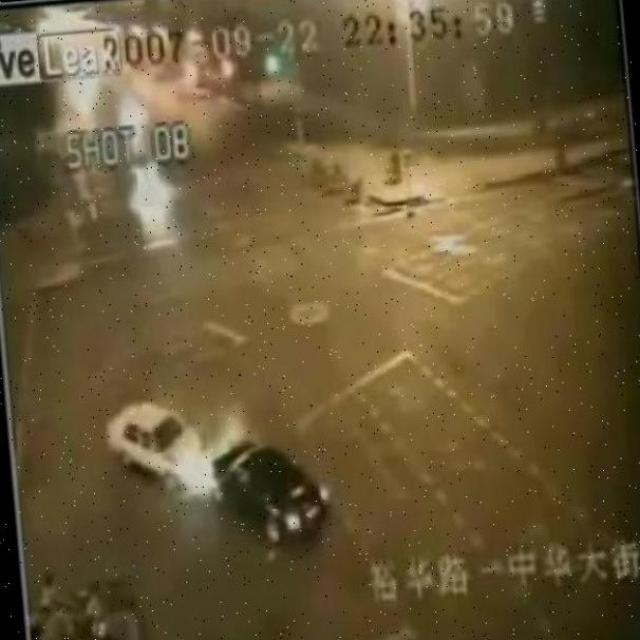accident: (83, 371, 348, 567)
